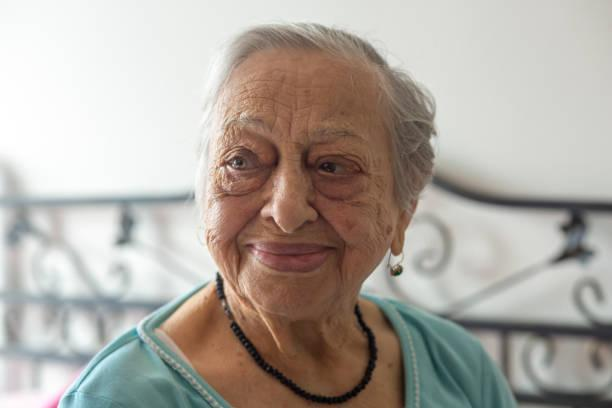Dry-Skin: (236, 67, 380, 130), (321, 179, 397, 260)
